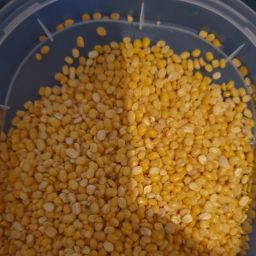Red Split Lentils(malka masar): (26, 13, 223, 256), (81, 63, 256, 256), (14, 150, 171, 238)
